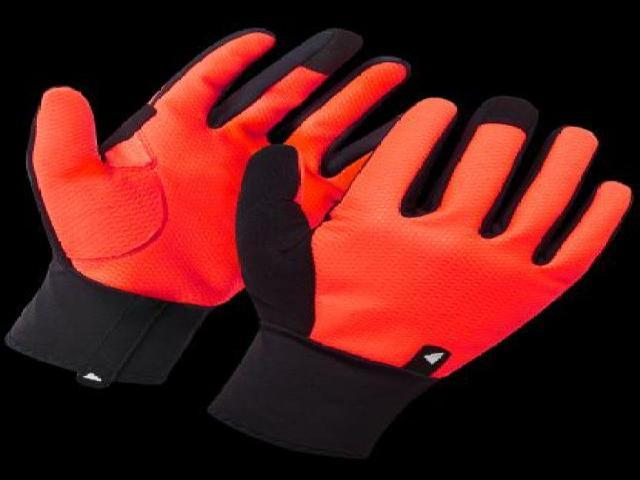Hand-in-Glove: (14, 26, 417, 377), (246, 97, 632, 459)
